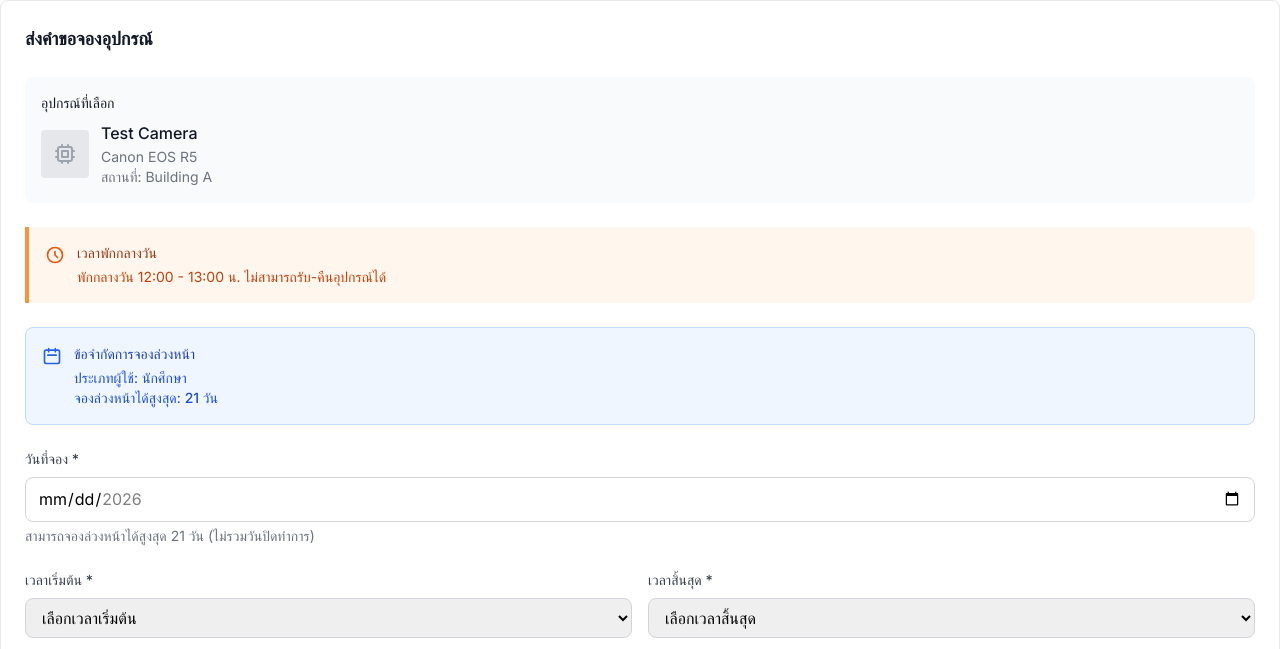
Test: ReservationForm Integration Tests › shows closed date warning when closed date is selected
The width and height of the screenshot is (1280, 649).
// Set to a closed date
Type "2024-12-25" into the date field labelled "วันที่จอง *" at coordinates (640, 499), box [25, 477, 1255, 522]
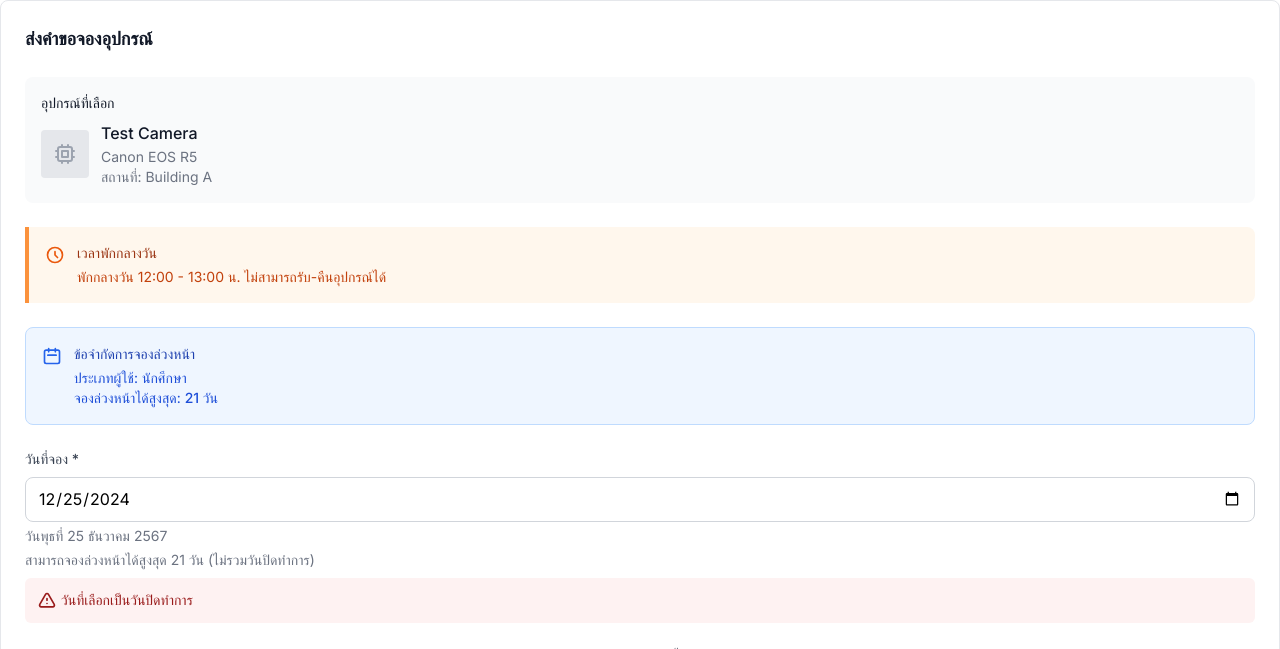
Check: the text "วันที่เลือกเป็นวันปิดทำการ" is shown, box [37, 591, 193, 611]
